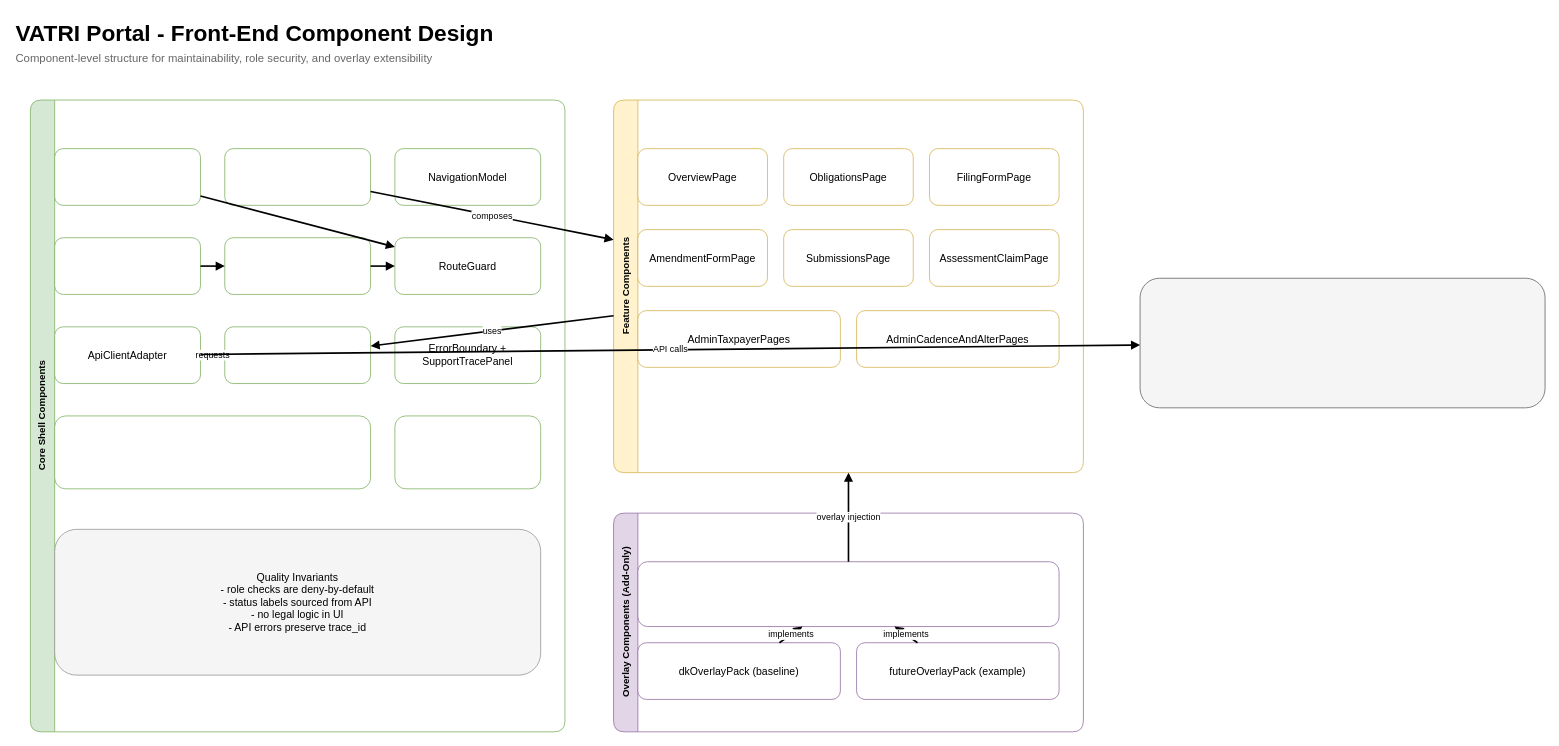
The diagram is 1559 pixels wide and 746 high, and some of its shapes have lost their labels. The shapes that lost their labels are listed below. From the top down, each one's centre as x and y in pixels, then its label:
At pixel 127 176: "RouteRegistry".
At pixel 297 176: "AppLayout".
At pixel 127 265: "AuthProvider".
At pixel 297 265: "SessionStore".
At pixel 297 355: "QueryCacheProvider".
At pixel 1342 342: "External Contract Endpoints Portal BFF (auth/session + domain APIs)".
At pixel 212 452: "A11yToolkit focus + keyboard + summaries".
At pixel 467 452: "TelemetryBridge traceparent + UX diagnostics".
At pixel 848 594: "OverlayContract locale, labels, forms, statuses, legal notices, feature flags".
